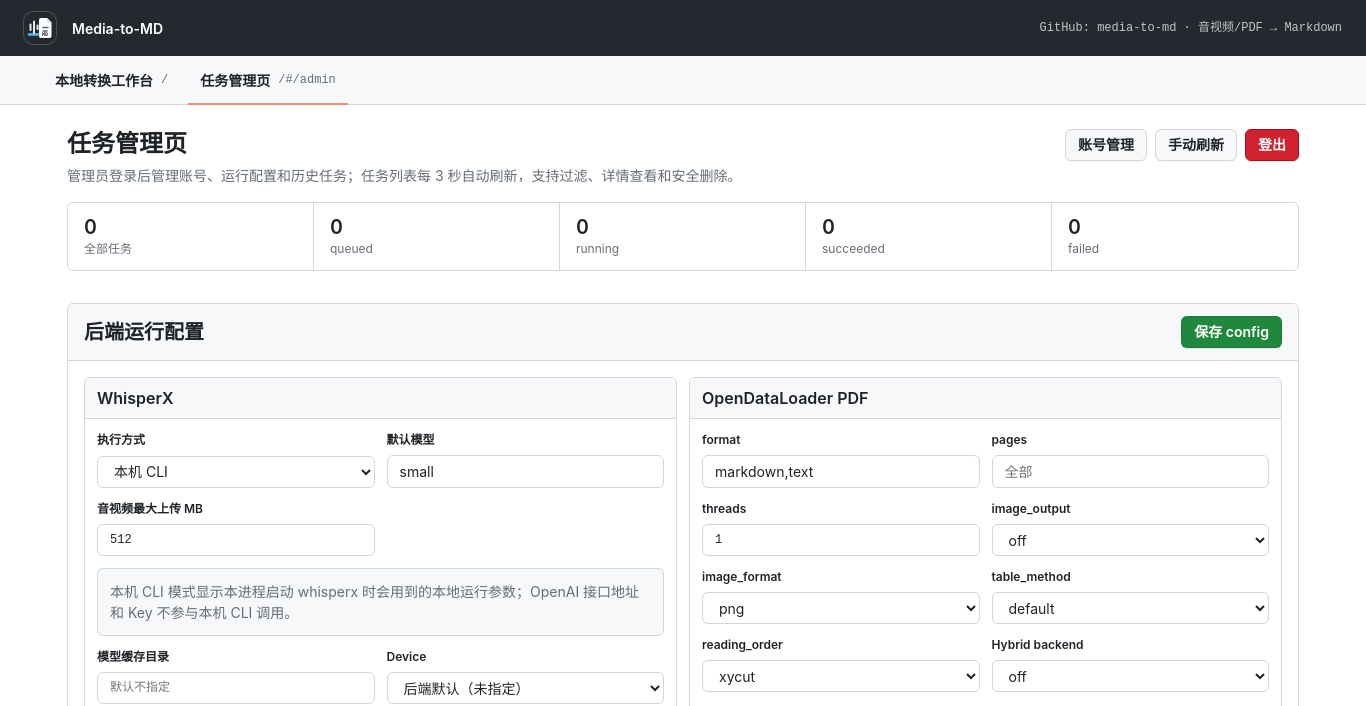
Scenario: hash routing shell › shows password management instead of login/logout inside signed-in account modal
Click the button "账号管理" at (1106, 145), box [1065,129,1147,161]
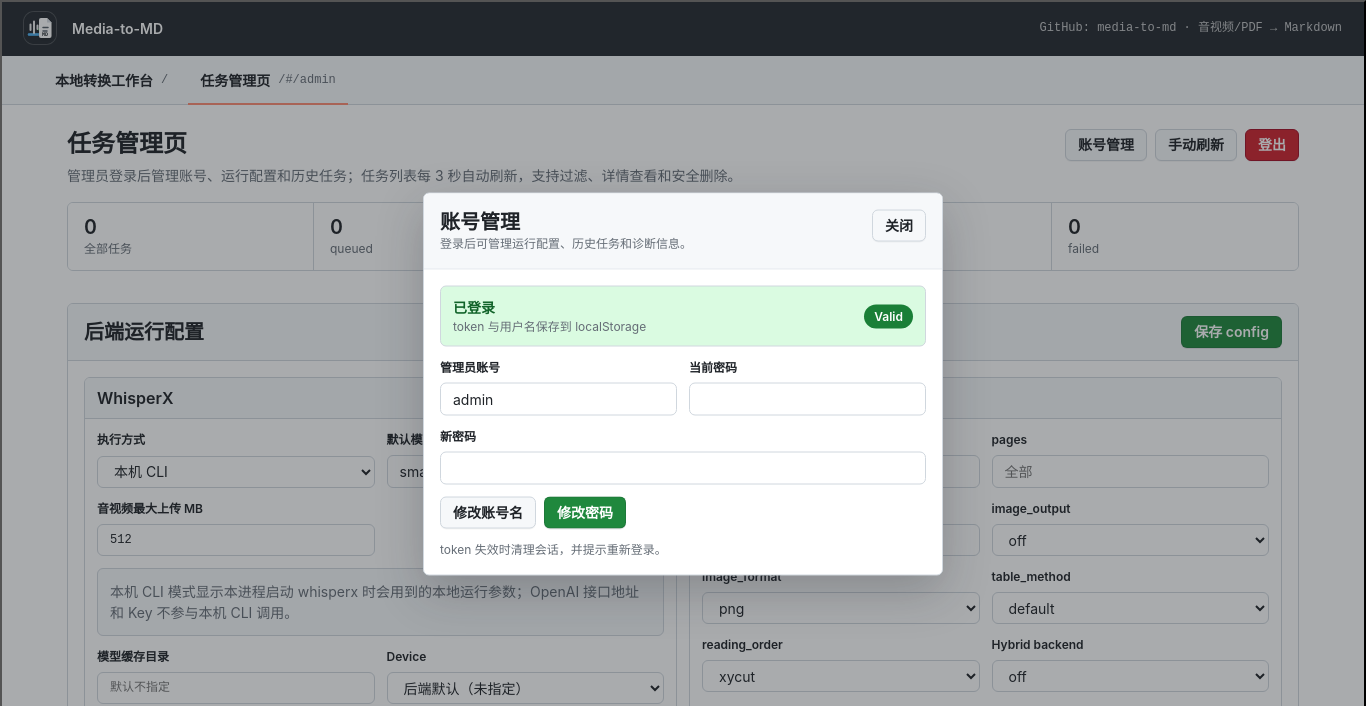
Expected: the button "修改账号名" is shown, [440,496,536,528]
Expected: the button "修改密码" is shown, [544,496,626,528]
Expected: the password field labelled "当前密码" is shown, [689,382,926,416]
